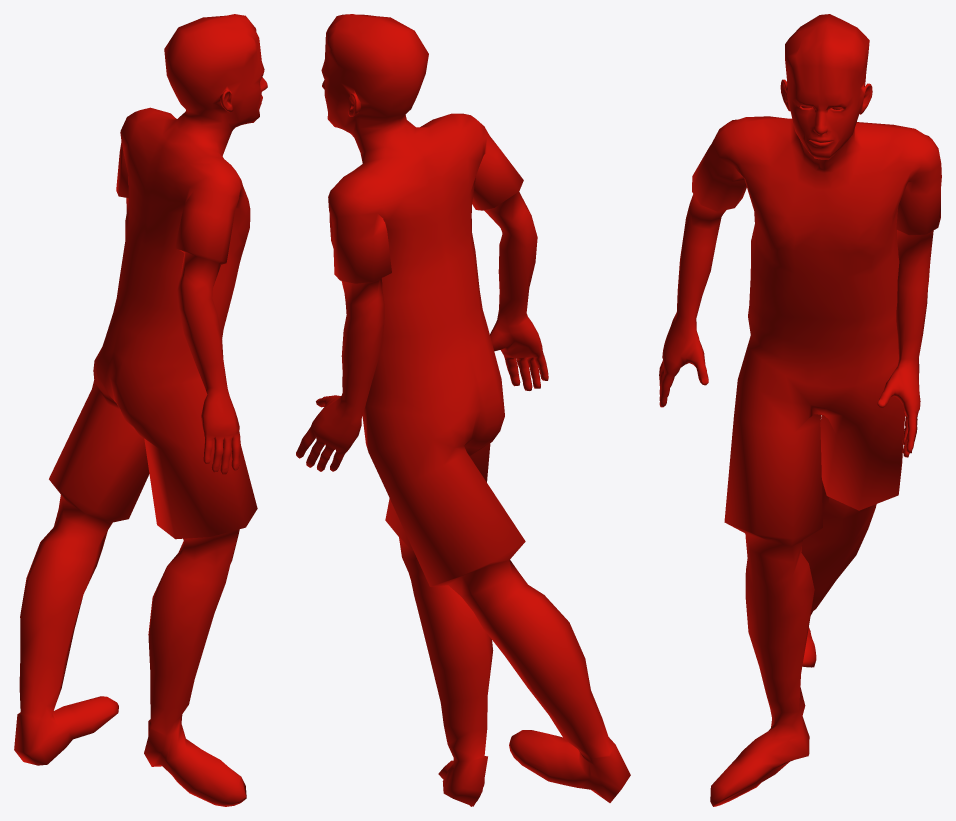
File: player_000045.obj
The picture shows the model from 3 angles, left to right: view 1: azimuth 30°, elevation 25°; view 2: azimuth 150°, elevation 25°; view 3: azimuth 270°, elevation 25°; orthographic projection. The views are drawn at different scales.
Parts seen in each view (by area): view 1: soccerplayer.002_mesh.003; view 2: soccerplayer.002_mesh.003; view 3: soccerplayer.002_mesh.003.
Boxes of the visible parts, x1,y1,x2,y2 form: soccerplayer.002_mesh.003: (14,14,267,806); soccerplayer.002_mesh.003: (296,14,630,806); soccerplayer.002_mesh.003: (659,14,941,806).
Size of the model in its own units: 1.12 by 3 by 0.961.
